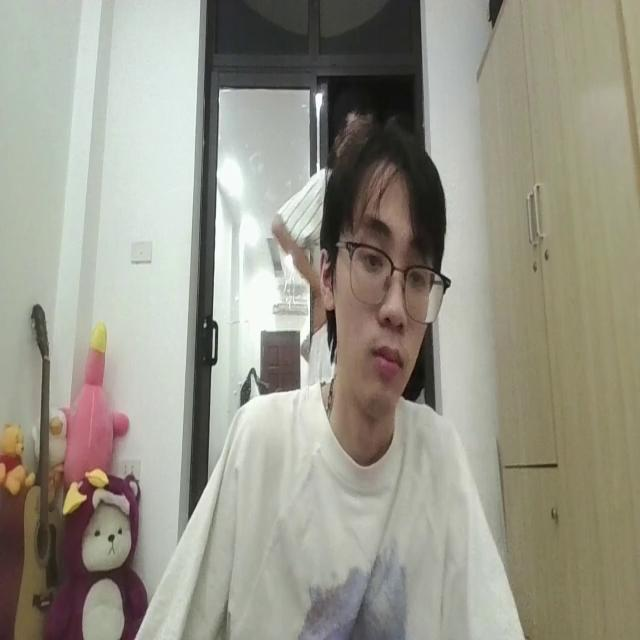student: (135, 110, 521, 640)
